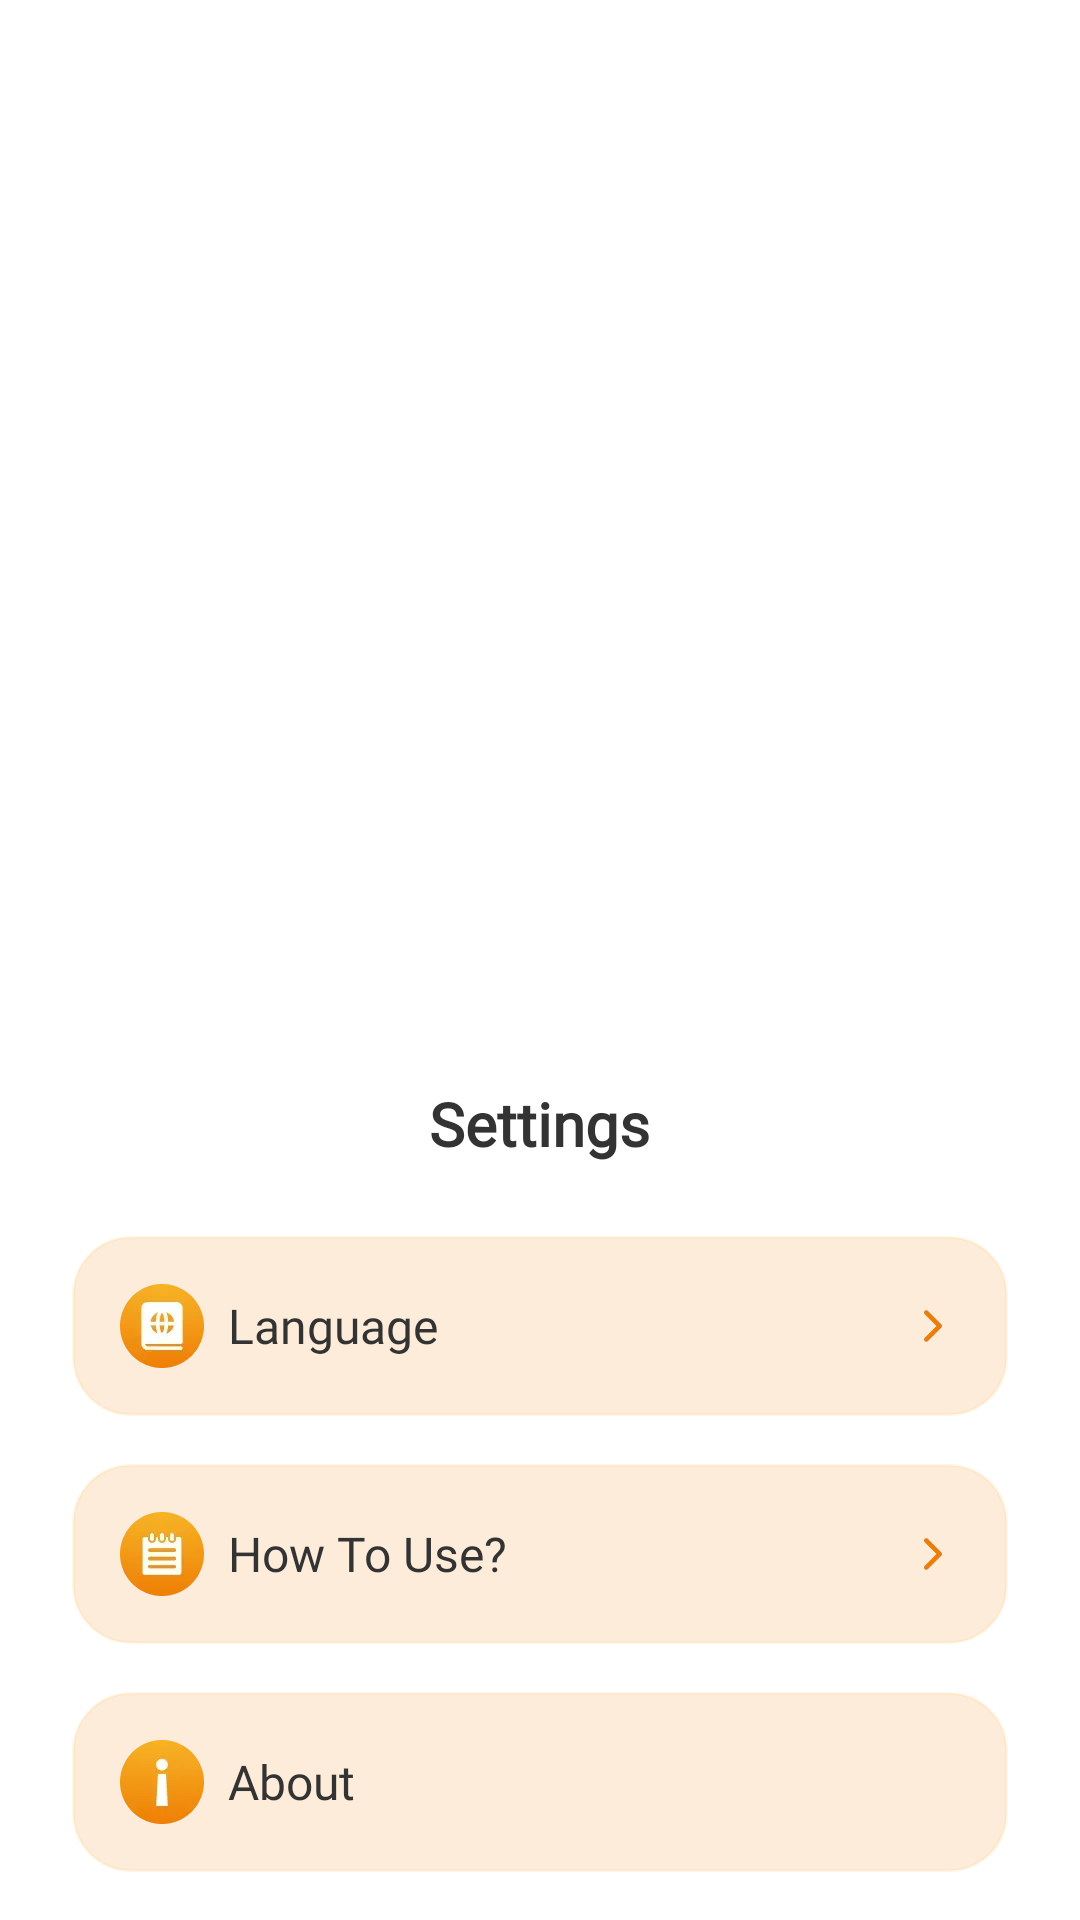

Icons on this 1080 × 1920 Android screen, each with its box as (x1, y1, x2, y2):
settings guide: (120, 1512, 204, 1596)
